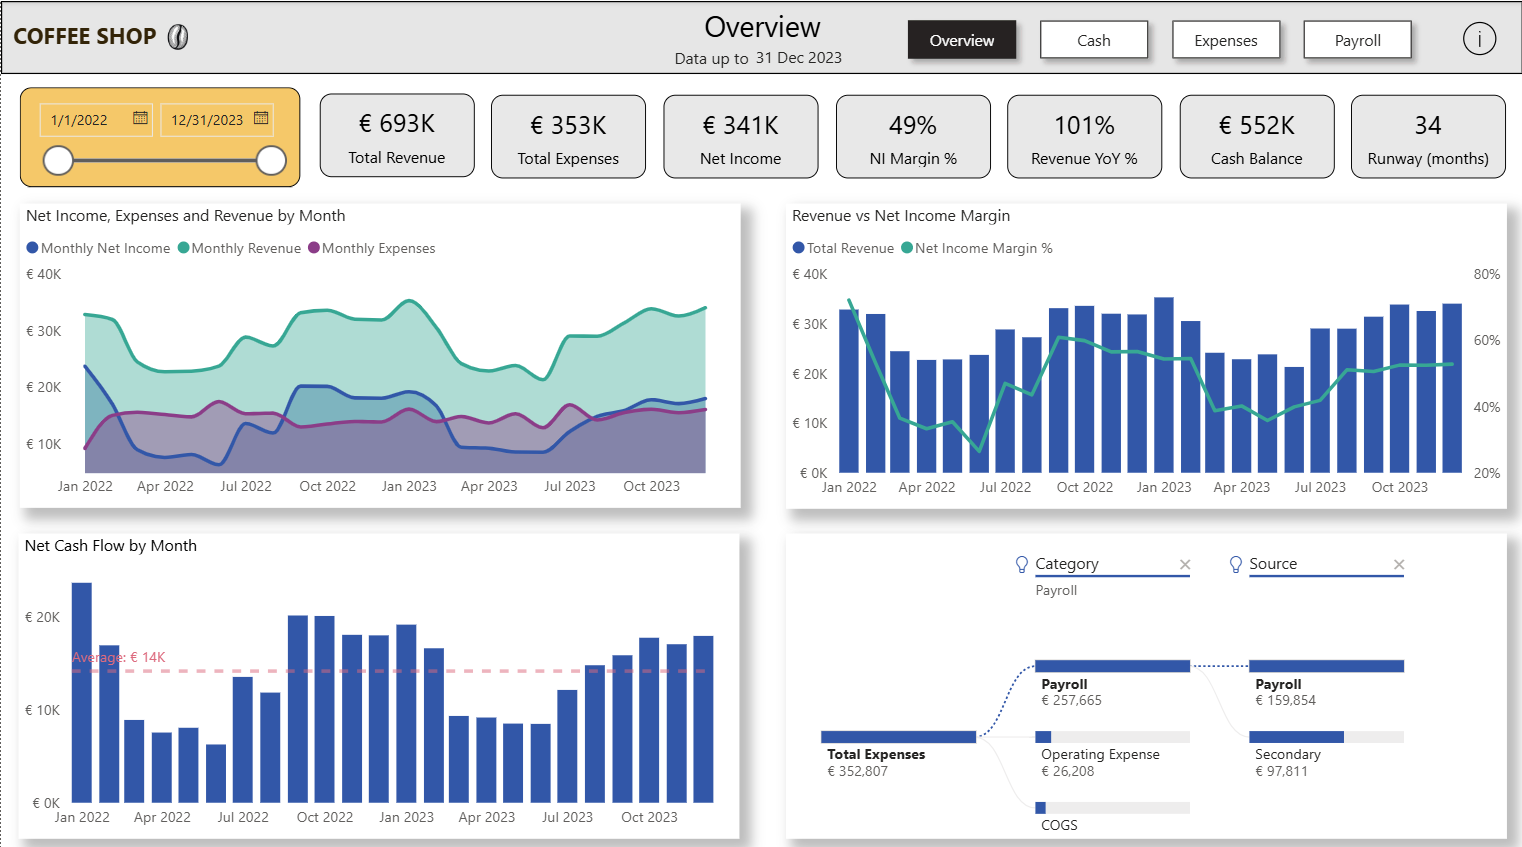

Layout of this report page (visuals, bound fields, positions):
{"tool":"powerbi","page":{"name":"Overview","canvas":[1280,720],"ordinal":0},"visuals":[{"type":"shape","box":[0,0,1280,61.4],"z":0,"group":"g2"},{"type":"group","id":"g1","title":"Group 2","box":[5.7,7.1,195.5,48.6],"z":0,"group":"g3"},{"type":"textbox","box":[5.7,11.6,152.9,35.7],"z":0,"group":"g1"},{"type":"card","fields":{"Values":["_Measurements.Latest Date"]},"box":[621.5,34.7,100,24.3],"z":0,"group":"g4"},{"type":"group","id":"g2","title":"Main page","box":[0,0,1280,705],"z":1000},{"type":"image","box":[98.4,7.1,102.9,48.6],"z":1000,"group":"g1"},{"type":"textbox","box":[561.5,33.3,82.9,30],"z":1000,"group":"g4"},{"type":"areaChart","title":"Net Income, Expenses and Revenue by Month","fields":{"Y":["_Measurements.Monthly Net Income","_Measurements.Monthly Revenue","_Measurements.Monthly Expenses"],"Category":["DimMonth.month_start"]},"box":[15.7,170,606,256],"z":1000,"group":"g2"},{"type":"lineClusteredColumnComboChart","title":"Revenue vs Net Income Margin","fields":{"Y":["_Measurements.Total Revenue"],"Category":["DimMonth.month_start"],"Y2":["_Measurements.Net Income Margin %"]},"box":[660,170,606.7,256.7],"z":2000,"group":"g2"},{"type":"pageNavigator","box":[754.3,7.7,443.9,50],"z":2500},{"type":"columnChart","title":"Net Cash Flow by Month","fields":{"Category":["DimMonth.month_start"],"Y":["_Measurements.Monthly Net Cash Flow (txn)"]},"box":[15,448.3,606.7,256.7],"z":3000,"group":"g2"},{"type":"card","fields":{"Values":["_Measurements.Total Revenue"]},"box":[268,78,130,70],"z":4000,"group":"g2"},{"type":"card","fields":{"Values":["_Measurements.Total Expenses"]},"box":[412.5,78.6,130.4,70],"z":5000,"group":"g2"},{"type":"card","fields":{"Values":["_Measurements.Net Income"]},"box":[557.4,78.6,130,70],"z":6000,"group":"g2"},{"type":"card","fields":{"Values":["_Measurements.Net Income Margin %"]},"box":[702,78.6,130.4,70],"z":7000,"group":"g2"},{"type":"card","fields":{"Values":["_Measurements.Revenue YoY %"]},"box":[846.9,78.6,130,70],"z":8000,"group":"g2"},{"type":"card","fields":{"Values":["_Measurements.Cash Balance"]},"box":[991.4,78.6,130,70],"z":9000,"group":"g2"},{"type":"card","fields":{"Values":["_Measurements.Runway (months)"]},"box":[1136,78.6,130.4,70],"z":10000,"group":"g2"},{"type":"group","id":"g3","title":"Group 1","box":[5.7,7.1,195.7,48.6],"z":11000,"group":"g2"},{"type":"textbox","box":[397.1,0,485.7,47.1],"z":12000,"group":"g2"},{"type":"group","id":"g4","title":"Group 3","box":[561.5,33.3,160,30],"z":13000,"group":"g2"},{"type":"decompositionTreeVisual","fields":{"Analyze":["_Measurements.Total Expenses"],"ExplainBy":["analytics v_fact_cash_txn.category","analytics v_fact_cash_txn.source"]},"box":[660,448.3,606.7,256.7],"z":14000,"group":"g2"},{"type":"actionButton","box":[1223.8,11.2,42.5,40],"z":15000,"group":"g2"},{"type":"slicer","fields":{"Values":["analytics dim_calendar.date"]},"box":[16.2,72.5,236.2,83.8],"z":16000,"group":"g2"}]}

Visuals, with their boxes in screenshot pixels (x1, y1, x2, y2), scaled from the page's 1280x720 canvas onto the 1522x847 screenshot:
shape: 0 0 1521 72
"Group 2" group: 7 8 239 66
textbox: 7 14 189 56
card - _Measurements.Latest Date: 739 41 858 69
"Main page" group: 0 0 1521 829
image: 117 8 239 66
textbox: 668 39 766 74
"Net Income, Expenses and Revenue by Month" areaChart: 19 200 739 501
"Revenue vs Net Income Margin" lineClusteredColumnComboChart: 785 200 1506 502
pageNavigator: 897 9 1425 68
"Net Cash Flow by Month" columnChart: 18 527 739 829
card - _Measurements.Total Revenue: 319 92 473 174
card - _Measurements.Total Expenses: 490 92 646 175
card - _Measurements.Net Income: 663 92 817 175
card - _Measurements.Net Income Margin %: 835 92 990 175
card - _Measurements.Revenue YoY %: 1007 92 1162 175
card - _Measurements.Cash Balance: 1179 92 1333 175
card - _Measurements.Runway (months): 1351 92 1506 175
"Group 1" group: 7 8 239 66
textbox: 472 0 1050 55
"Group 3" group: 668 39 858 74
decompositionTreeVisual - _Measurements.Total Expenses x analytics v_fact_cash_txn.category: 785 527 1506 829
actionButton: 1455 13 1506 60
slicer - analytics dim_calendar.date: 19 85 300 184
